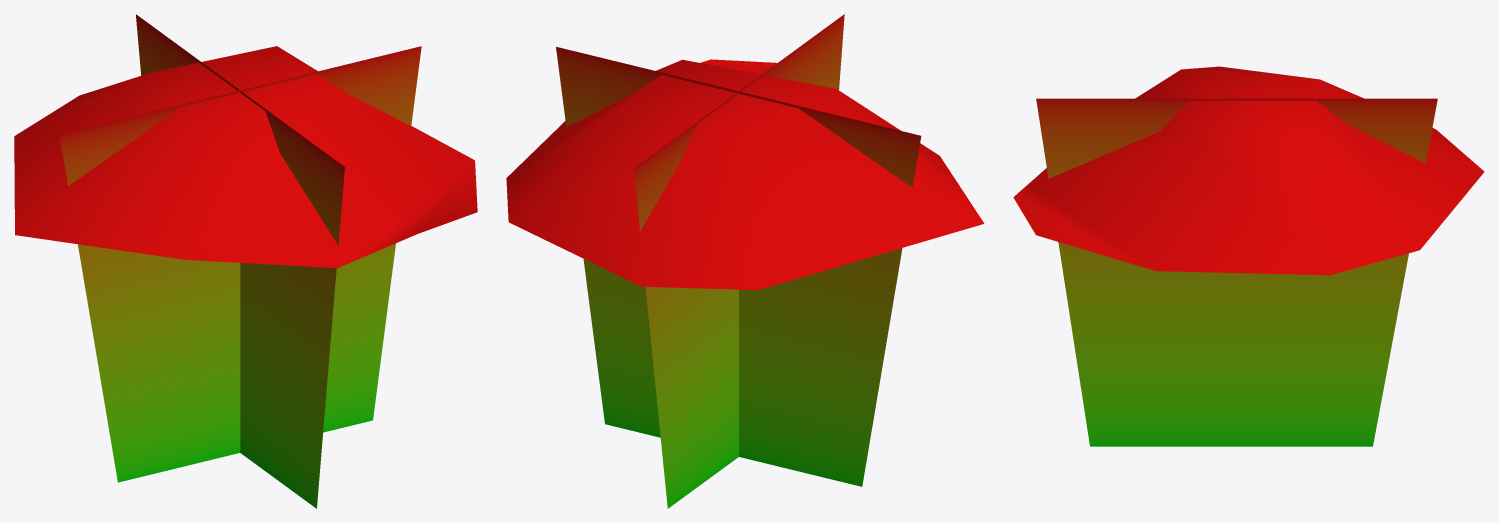
The model's file is Var1_LOD4.fbx.
3 views of the same model, side by side, from view 1: azimuth 30°, elevation 25°; view 2: azimuth 150°, elevation 25°; view 3: azimuth 270°, elevation 25° (orthographic). The views are drawn at different scales.
Visible parts, largest first — view 1: _ad64_Var1_LOD4; view 2: _ad64_Var1_LOD4; view 3: _ad64_Var1_LOD4.
Boxes of the visible parts, bbox=[...] form: _ad64_Var1_LOD4: bbox=[14, 14, 477, 508]; _ad64_Var1_LOD4: bbox=[506, 14, 984, 508]; _ad64_Var1_LOD4: bbox=[1013, 66, 1484, 446].
Bounding box in the file's own units: 27.55 × 22.36 × 27.46.
